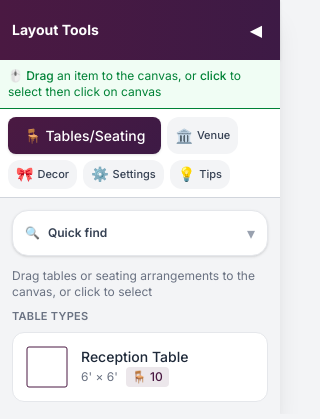
Test case: Sidebar cross-role visibility for category-restricted items › shows only category-matching table and visible venue fixture to basic users
expect the text "Reception Table" is shown: met, box [81,347,188,367]
Click the button titled "Venue" at (203, 136), box [167,117,238,154]
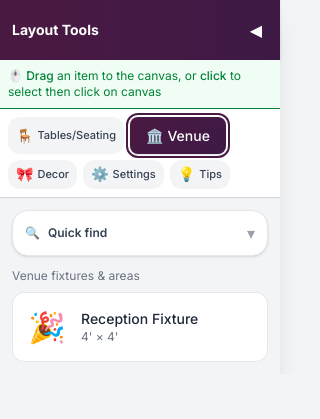
expect the text "Reception Fixture" is shown: met, box [81,308,198,328]
